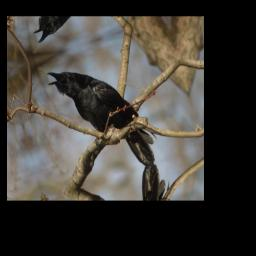Crow: (42, 43, 160, 189)
